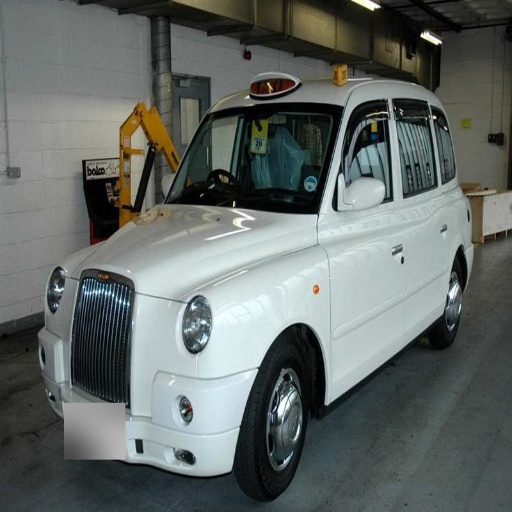front_bumper: (115, 292, 256, 474), (40, 295, 106, 416)
front_glass: (164, 104, 341, 210)
front_left_door: (324, 99, 409, 386)
